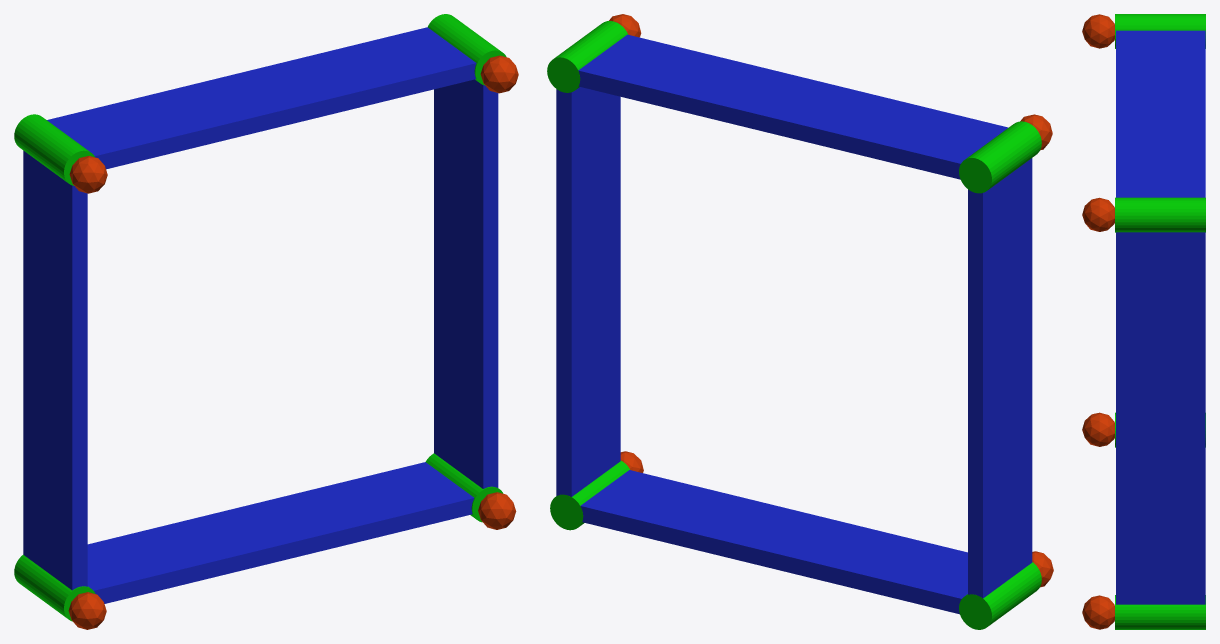
Rendered from velmobil_gym_mini.obj.
3 renders of one model, left to right at view 1: azimuth 30°, elevation 25°; view 2: azimuth 150°, elevation 25°; view 3: azimuth 270°, elevation 25°, orthographic. The views are drawn at different scales.
Visible parts, largest first — view 1: Cube.002, Cube.003, Cube, Cube.001, Cylinder.002, Cylinder.001, Cylinder.003, Cylinder, Icosphere.001, Icosphere.002, Icosphere.003, Icosphere; view 2: Cube.002, Cube.003, Cube, Cube.001, Cylinder.002, Cylinder.001, Cylinder.003, Cylinder; view 3: Cube.003, Cube, Cylinder.003, Cylinder, Cylinder.002, Icosphere, Icosphere.002, Icosphere.003, Icosphere.001.
Boxes of the visible parts, box(x1,y1,x2,y2) form: Cube.002: box(23, 150, 87, 590); Cube.003: box(434, 79, 498, 488); Cube: box(47, 27, 476, 169); Cube.001: box(87, 462, 474, 603); Cylinder.002: box(14, 114, 94, 185); Cylinder.001: box(14, 554, 95, 621); Cylinder.003: box(428, 14, 506, 85); Cylinder: box(425, 453, 503, 522); Icosphere.001: box(480, 55, 518, 93); Icosphere.002: box(478, 492, 516, 529); Icosphere.003: box(68, 592, 106, 629); Icosphere: box(69, 156, 107, 193); Cube.002: box(968, 158, 1032, 598); Cube.003: box(556, 87, 620, 496); Cube: box(578, 34, 1008, 179); Cube.001: box(580, 470, 967, 614); Cylinder.002: box(959, 121, 1041, 193); Cylinder.001: box(959, 562, 1041, 629); Cylinder.003: box(547, 21, 627, 92); Cylinder: box(550, 460, 629, 530); Cube.003: box(1116, 232, 1205, 604); Cube: box(1116, 30, 1205, 197); Cylinder.003: box(1115, 197, 1205, 232); Cylinder: box(1115, 595, 1205, 629); Cylinder.002: box(1115, 14, 1205, 48); Icosphere: box(1082, 14, 1114, 48); Icosphere.002: box(1082, 595, 1114, 629); Icosphere.003: box(1082, 412, 1114, 446); Icosphere.001: box(1082, 197, 1114, 231).
Size of the model in its own units: 26.85 by 27.16 by 7.07.
